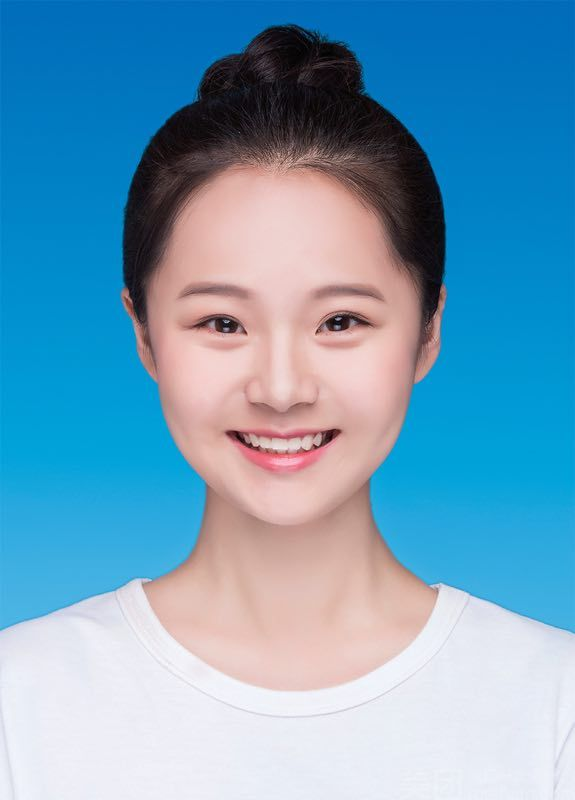unmask: (161, 200, 416, 490)
